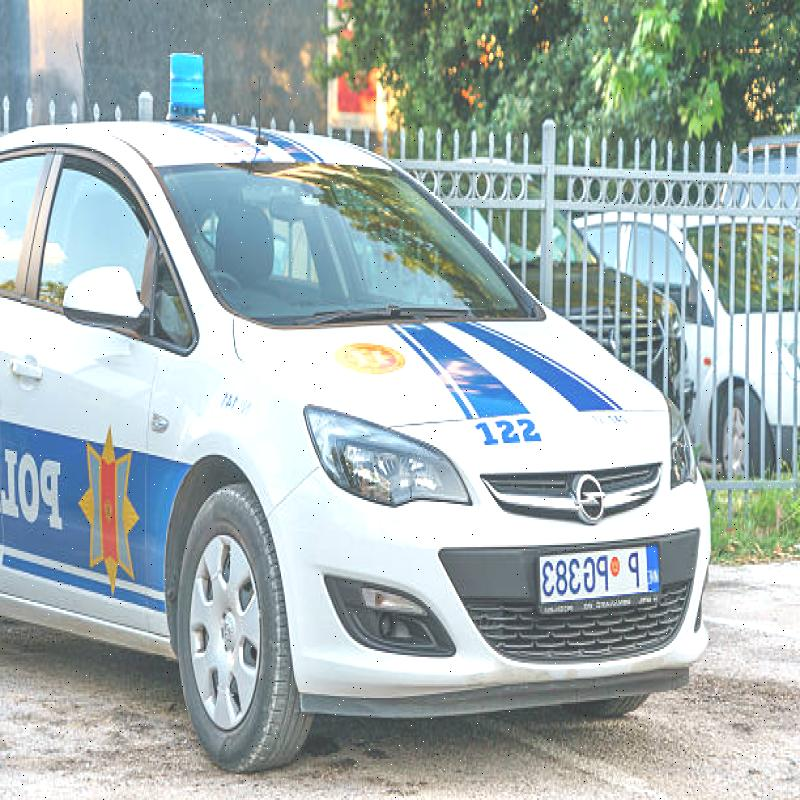AmbulanceSiren: (152, 47, 211, 164)
